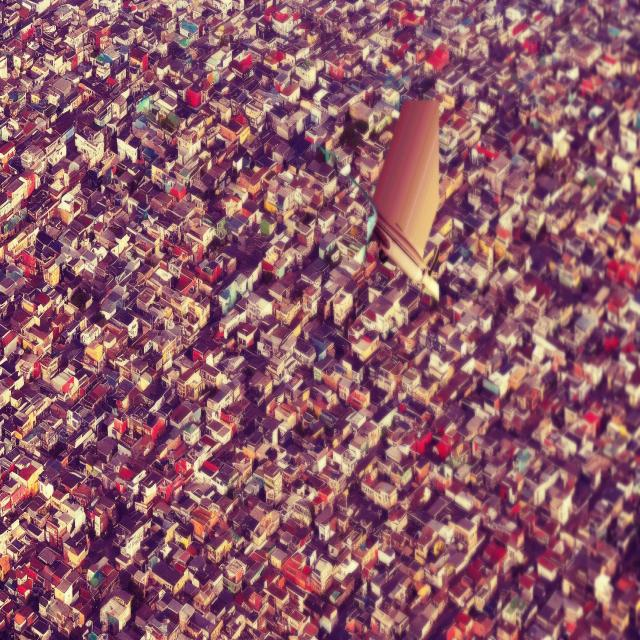airplane: (349, 102, 440, 300)
